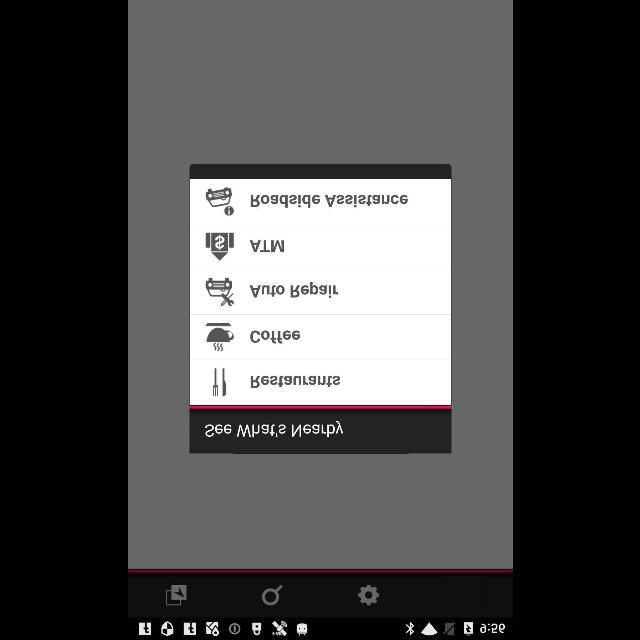icon: (358, 584, 378, 606), (262, 584, 282, 606)
image: (204, 323, 233, 351), (205, 188, 233, 216), (205, 233, 233, 261), (205, 278, 233, 306), (166, 584, 187, 606), (212, 368, 226, 396)
panel: (189, 164, 451, 454)
text: (204, 420, 342, 438), (249, 195, 407, 208), (248, 282, 338, 298), (250, 376, 340, 388), (250, 331, 300, 343), (249, 240, 283, 252)
uppertaskbar: (128, 617, 512, 639)
